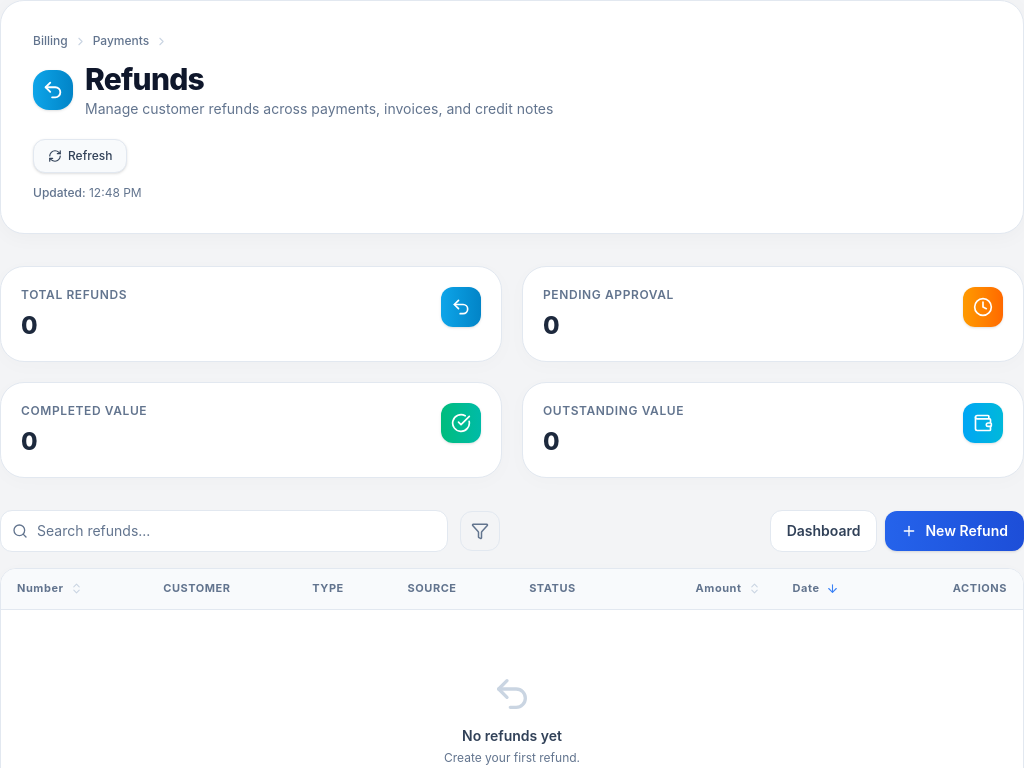
Scenario: B1 New Refund › Payment is disabled with a hint until a customer is chosen, then lists that customer's payments
This screenshot has width=1024, height=768.
Click the button "New Refund" at (955, 531), box [886,511,1023,551]
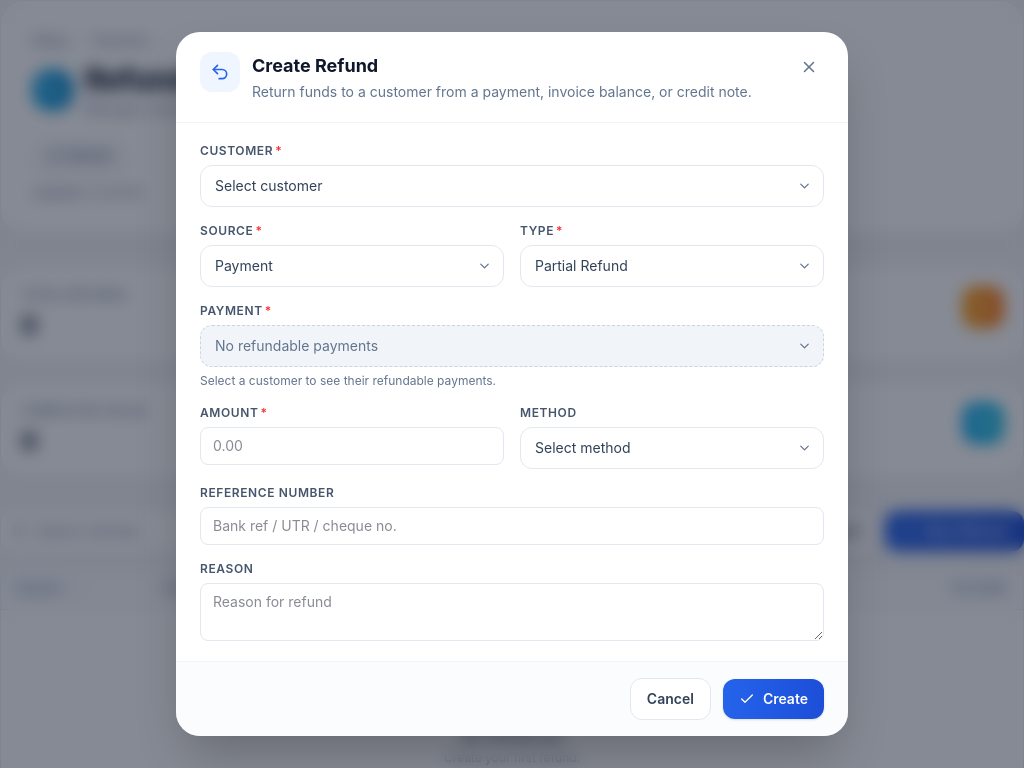
Check: the dropdown labelled "Payment*" is disabled, box [200,325,824,367]
Check: the text "Select a customer to see their refundable payments." is shown, box [200,373,496,388]
Select "Globex Corp" in the dropdown labelled "Customer*" at (512, 186), box [200,165,824,207]
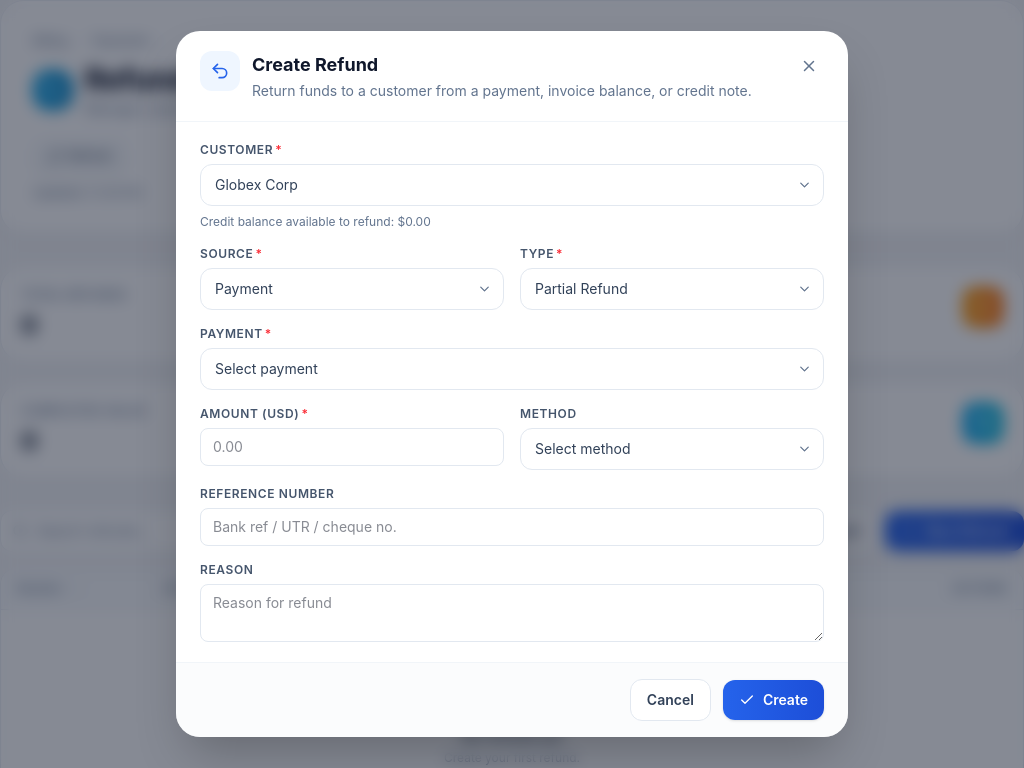
Check: the dropdown labelled "Payment*" is enabled, box [200,348,824,390]
